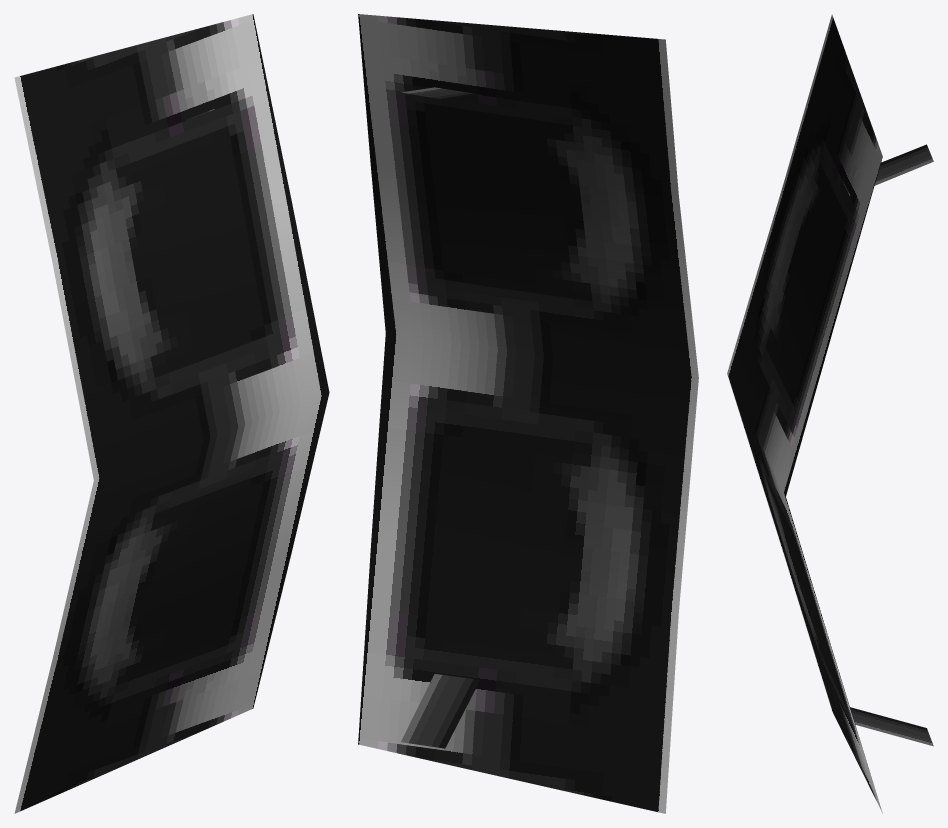
Rendered from acc_glass_thick.dae.
3 renders of one model, left to right at view 1: azimuth 30°, elevation 25°; view 2: azimuth 150°, elevation 25°; view 3: azimuth 270°, elevation 25°, orthographic. The views are drawn at different scales.
Parts seen in each view (by area): view 1: acc_glass_thick; view 2: acc_glass_thick; view 3: acc_glass_thick.
Boxes of the visible parts, x1,y1,x2,y2 form: acc_glass_thick: (14, 14, 329, 813); acc_glass_thick: (358, 14, 698, 813); acc_glass_thick: (727, 14, 933, 813).
Size of the model in its own units: 9.47 by 22.93 by 6.17.
Materials: 1 (1 with a texture image).
